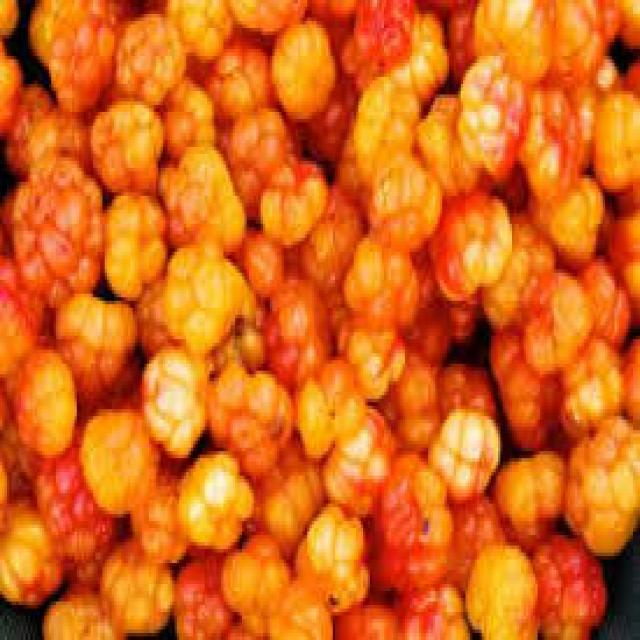organic waste: (7, 158, 105, 304), (32, 458, 118, 588), (28, 0, 123, 105), (568, 416, 638, 556), (54, 287, 138, 402), (163, 144, 247, 255), (494, 325, 564, 451), (456, 49, 526, 171), (430, 189, 508, 297), (374, 444, 452, 549), (484, 217, 556, 329), (177, 455, 254, 556), (296, 504, 368, 612), (79, 416, 158, 514), (535, 524, 603, 636), (463, 532, 535, 636), (163, 245, 244, 336), (491, 451, 568, 546), (219, 528, 284, 637), (472, 0, 560, 80), (12, 350, 76, 458), (107, 535, 177, 633), (521, 276, 589, 374), (528, 185, 603, 273), (0, 497, 61, 605), (342, 231, 414, 322), (323, 420, 391, 514), (301, 175, 358, 287), (205, 28, 270, 126), (142, 350, 205, 451), (114, 14, 189, 98), (270, 18, 330, 122), (230, 105, 286, 210), (263, 283, 326, 374), (358, 524, 426, 608), (561, 63, 617, 164), (228, 371, 286, 468), (563, 336, 619, 434), (419, 98, 479, 189), (254, 458, 316, 546), (438, 497, 500, 584), (102, 200, 166, 284), (0, 297, 54, 395), (370, 161, 442, 234), (522, 84, 572, 189), (294, 364, 358, 444), (332, 308, 402, 381), (577, 252, 631, 346), (414, 266, 477, 346), (384, 360, 435, 458), (431, 413, 498, 486), (28, 112, 91, 189), (591, 94, 638, 196), (435, 356, 491, 441), (160, 73, 217, 154), (551, 0, 614, 73), (354, 0, 419, 70), (128, 479, 186, 556), (7, 80, 51, 178), (0, 406, 40, 510), (163, 0, 235, 56), (268, 154, 318, 234), (172, 549, 219, 633), (42, 588, 123, 636), (403, 7, 449, 91), (351, 88, 412, 150), (210, 364, 252, 454), (310, 77, 354, 157), (277, 577, 333, 637), (401, 580, 458, 636), (610, 203, 638, 315), (242, 224, 286, 294), (224, 0, 308, 35), (333, 119, 361, 213), (135, 276, 172, 346), (326, 602, 402, 636), (447, 0, 479, 77), (0, 38, 21, 150), (342, 28, 384, 73), (621, 329, 638, 437), (302, 0, 356, 31), (612, 0, 638, 49), (0, 0, 19, 35)
